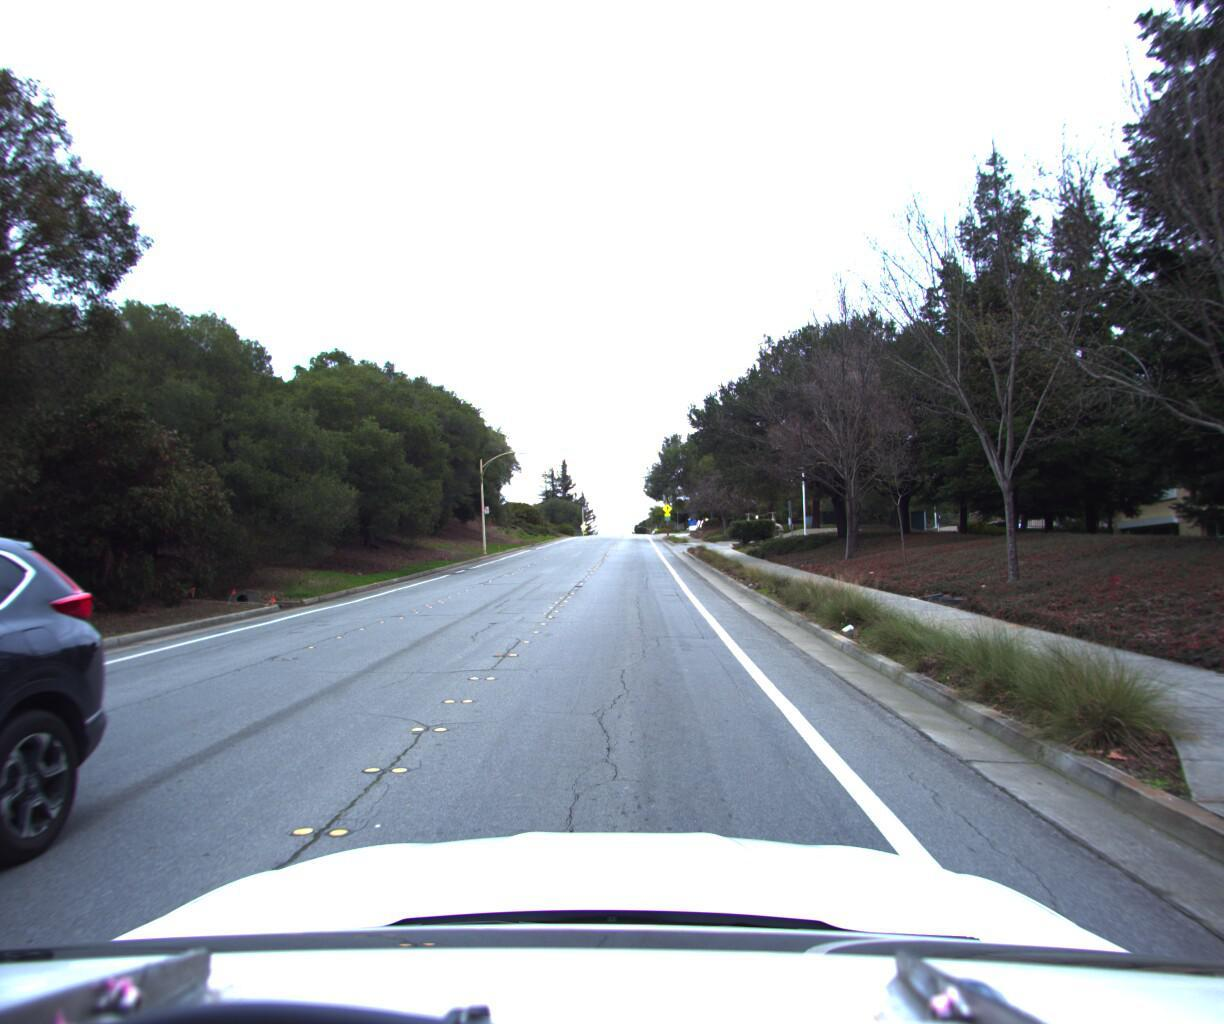car: (0, 325, 127, 1024)
